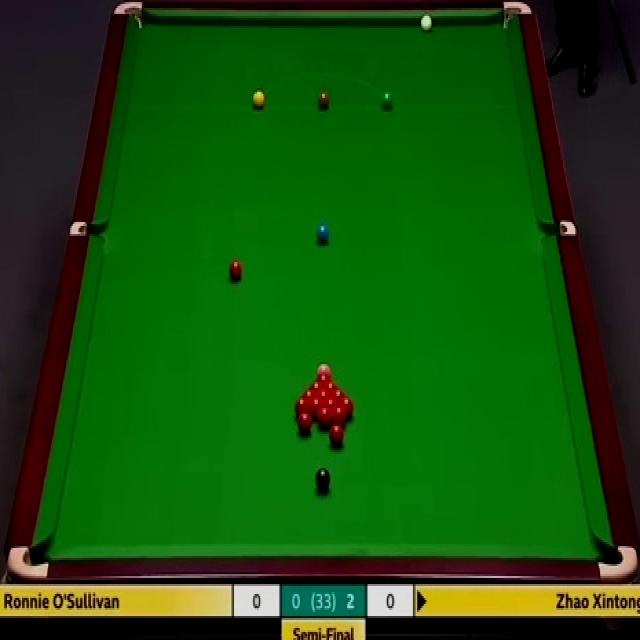black-ball: (314, 468, 332, 493)
blue-ball: (315, 222, 330, 245)
brown-ball: (317, 90, 330, 110)
green-ball: (380, 89, 393, 110)
pink-ball: (316, 361, 332, 376)
red-ball: (227, 258, 245, 286), (329, 425, 346, 448), (330, 406, 347, 427), (297, 412, 312, 432), (317, 407, 331, 428), (324, 398, 338, 418), (294, 396, 310, 413), (338, 398, 354, 414), (310, 398, 323, 416), (302, 388, 316, 399), (316, 389, 332, 398), (324, 381, 339, 390), (332, 390, 346, 399), (309, 381, 324, 389), (316, 373, 331, 381)
white-ball: (420, 12, 434, 34)
yellow-ball: (253, 90, 265, 110)
